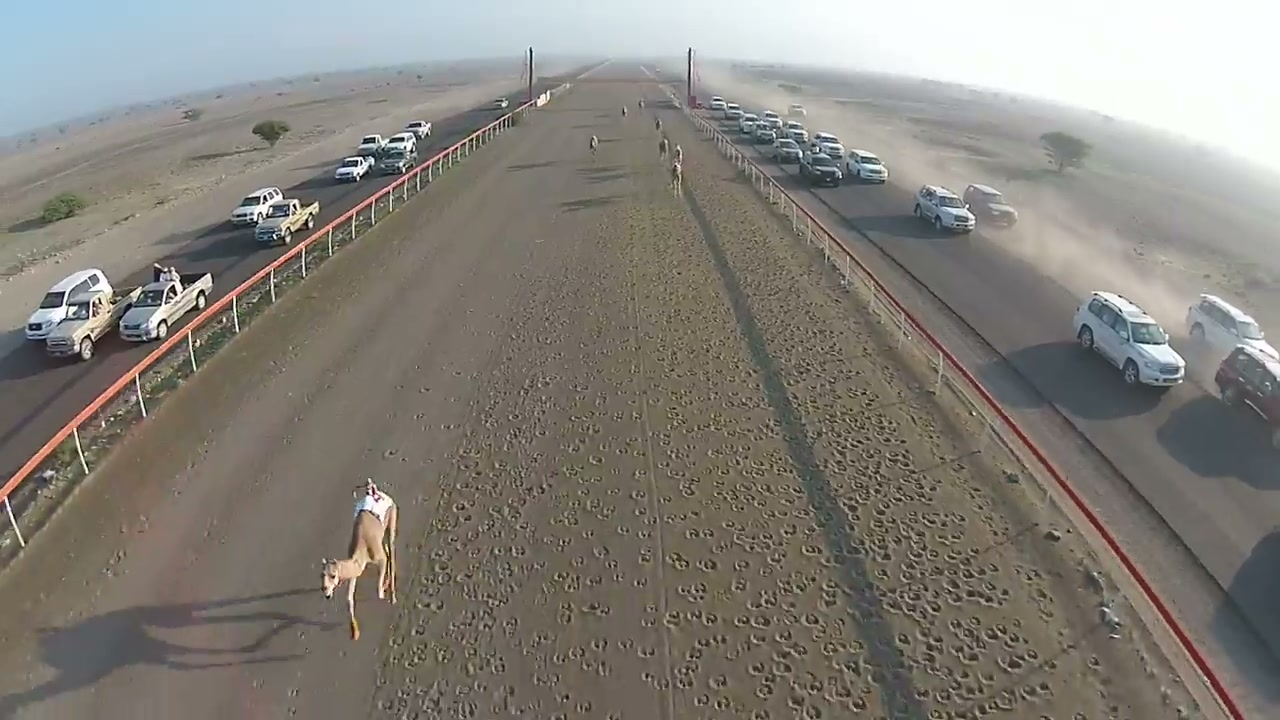animal_foot_print: (375, 120, 1161, 719), (687, 175, 1176, 717)
